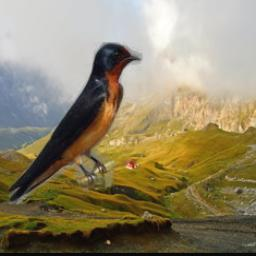Swallow: (8, 42, 142, 204)
